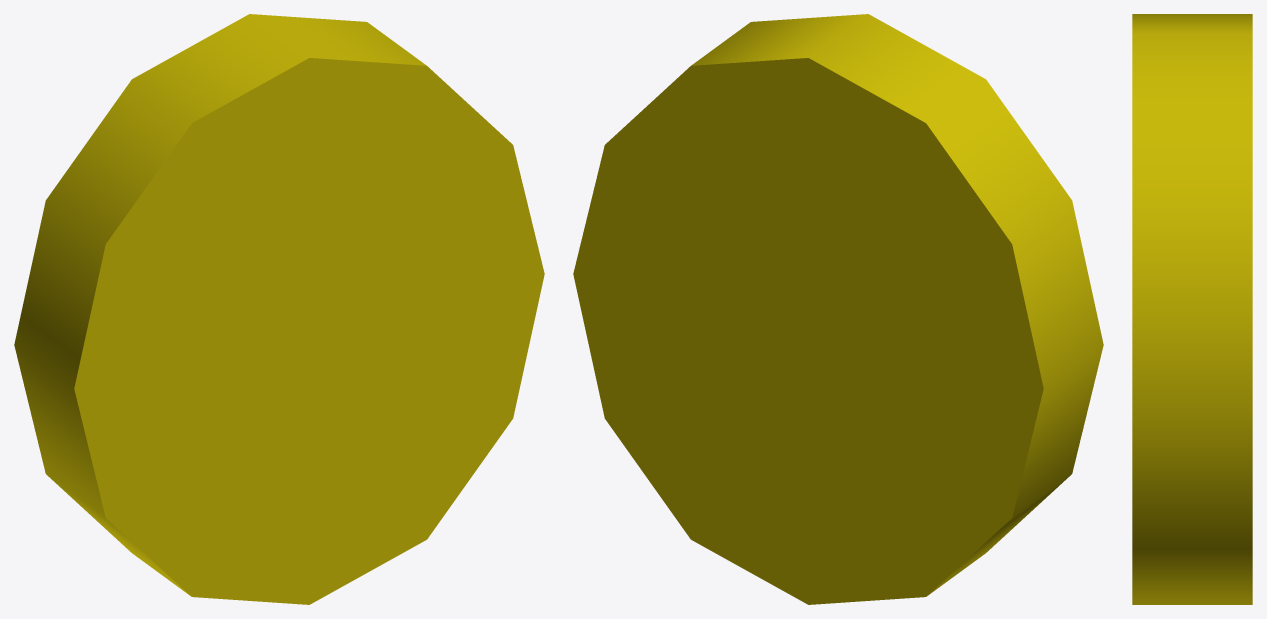
File: Coin_1.0.0.fbx
The picture shows the model from 3 angles, left to right: view 1: azimuth 30°, elevation 25°; view 2: azimuth 150°, elevation 25°; view 3: azimuth 270°, elevation 25°; orthographic projection.
Visible parts, largest first — view 1: Coin; view 2: Coin; view 3: Coin.
Boxes of the visible parts, <box> form: Coin: <box>14,14,544,604</box>; Coin: <box>573,14,1103,604</box>; Coin: <box>1132,14,1252,604</box>.
Bounding box in the file's own units: 90 × 100 × 19.87.
